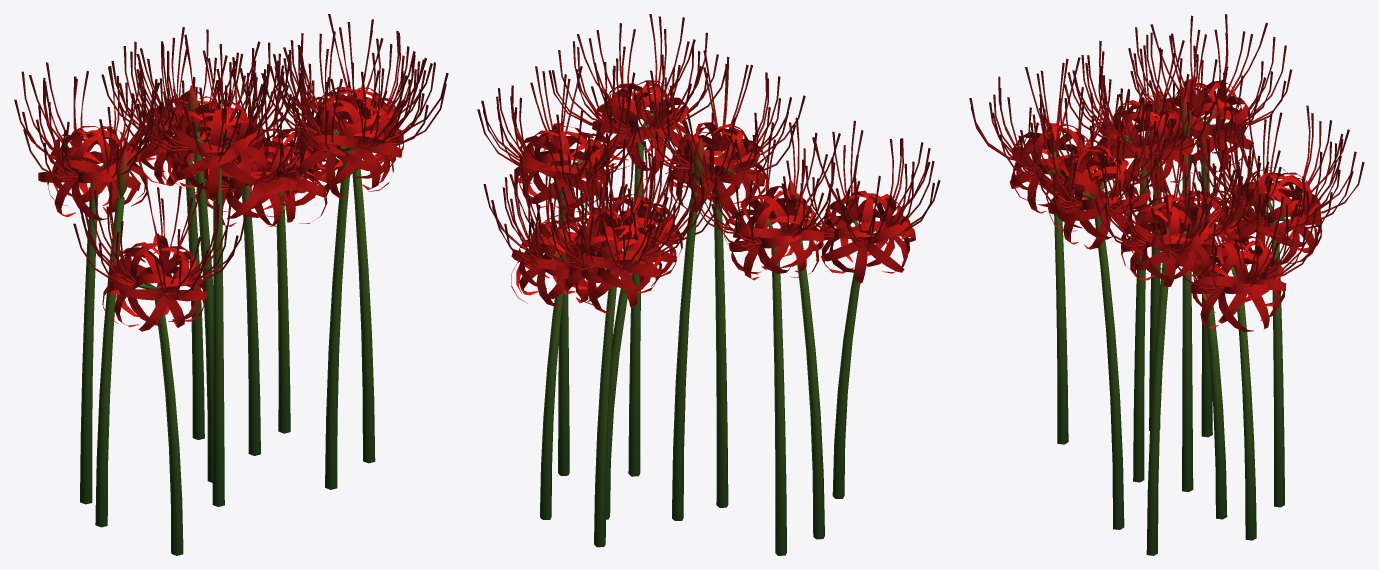
Rendered from treeKitsuneSpiderLily.fbx.
3 views of the same model, side by side, from view 1: azimuth 30°, elevation 25°; view 2: azimuth 150°, elevation 25°; view 3: azimuth 270°, elevation 25° (orthographic). The views are drawn at different scales.
Parts seen in each view (by area): view 1: treeKitsuneSpiderLily; view 2: treeKitsuneSpiderLily; view 3: treeKitsuneSpiderLily.
Part boxes in pixels (box(x1,y1,x2,y2)): treeKitsuneSpiderLily: box(14, 14, 448, 555); treeKitsuneSpiderLily: box(477, 14, 940, 555); treeKitsuneSpiderLily: box(969, 14, 1364, 555).
Bounding box in the file's own units: 0.8675 × 0.9126 × 0.7621.
1 material, 1 textured.
